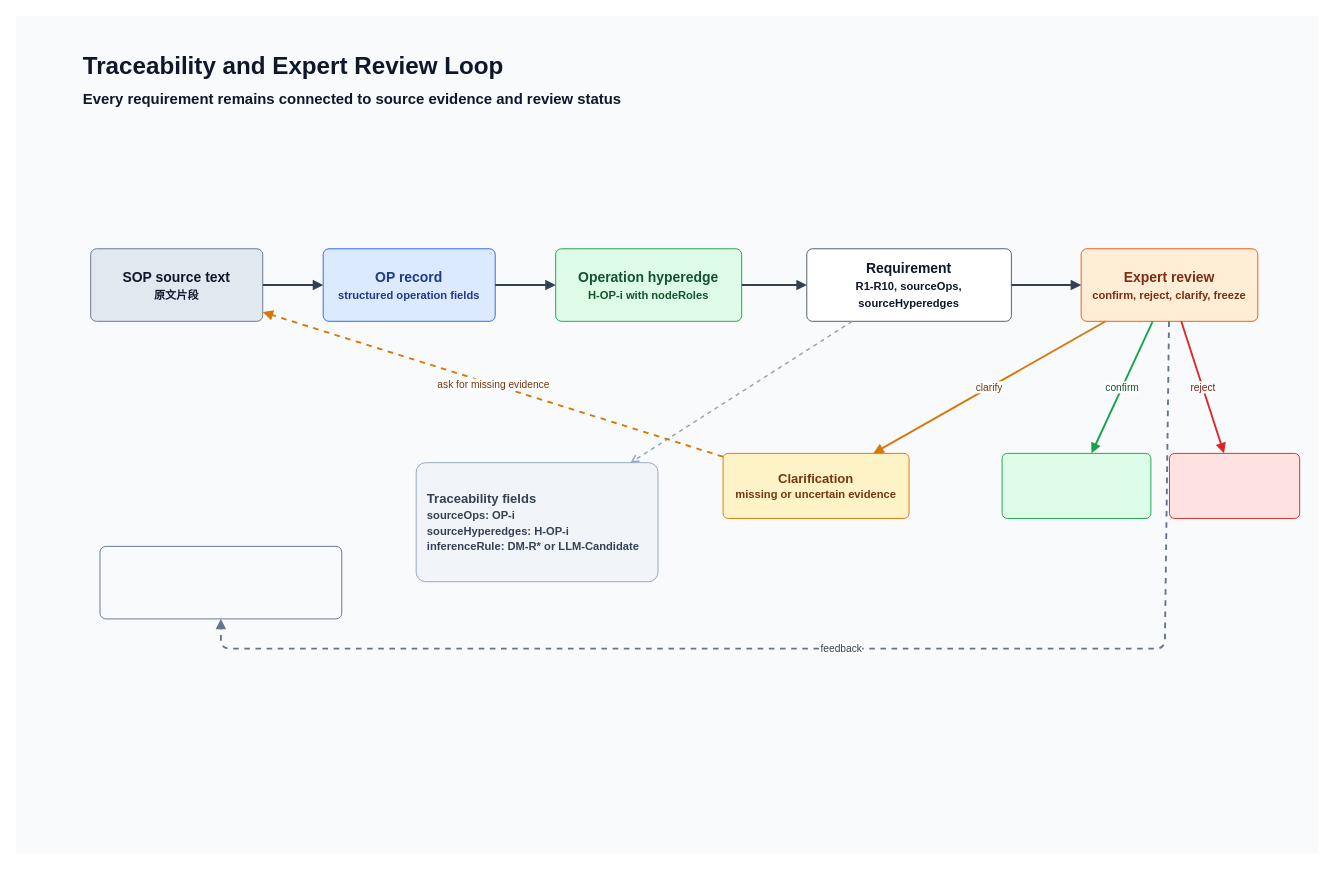
Image size: 1334x869. Some labels were removed from this diagram. Here are the shapes that lost their labels. From the top down, the centre of each, then its label:
At (x=1076, y=485): "Confirmed accepted requirement".
At (x=1234, y=485): "Rejected not retained".
At (x=220, y=582): "Rule and pattern refinement expert decisions inform future rule updates".
